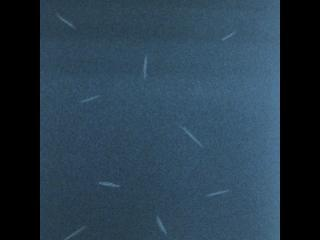scratch: (175, 121, 208, 151), (52, 10, 79, 34), (152, 209, 171, 240), (137, 51, 153, 86), (199, 186, 236, 201), (93, 176, 123, 193), (62, 224, 90, 240), (218, 26, 240, 46), (79, 93, 105, 107)
